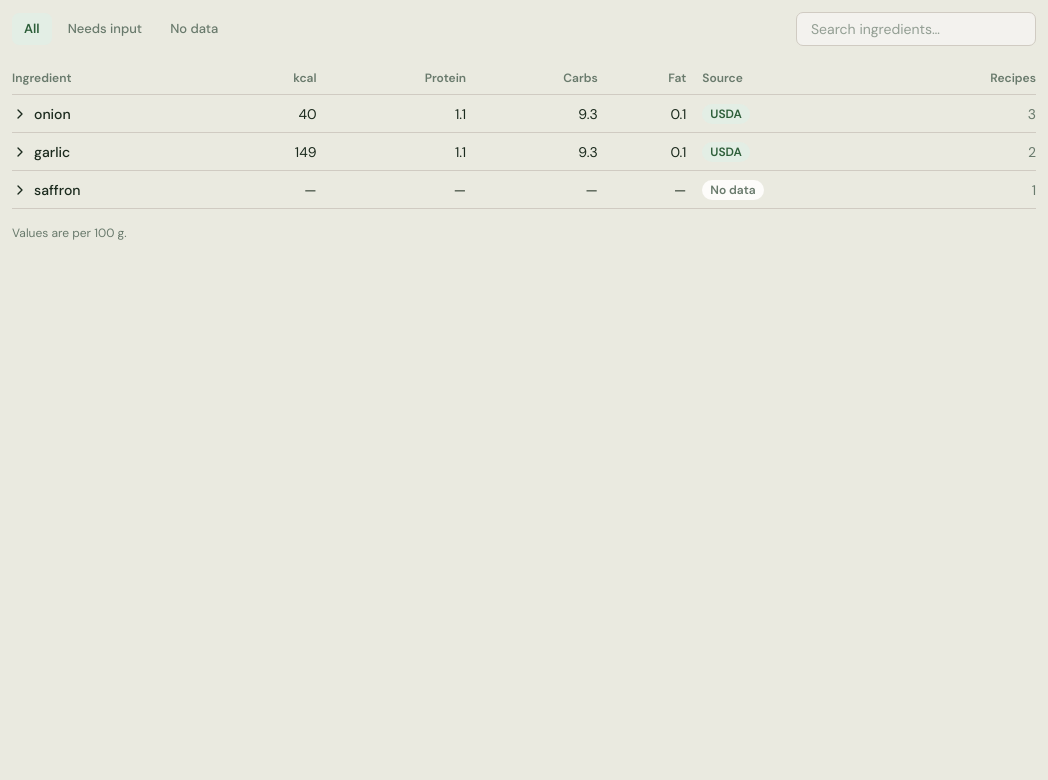
IngredientNutritionTable › fills a missing unit weight
Click the button "garlic" at (41,152), box [12,142,70,162]
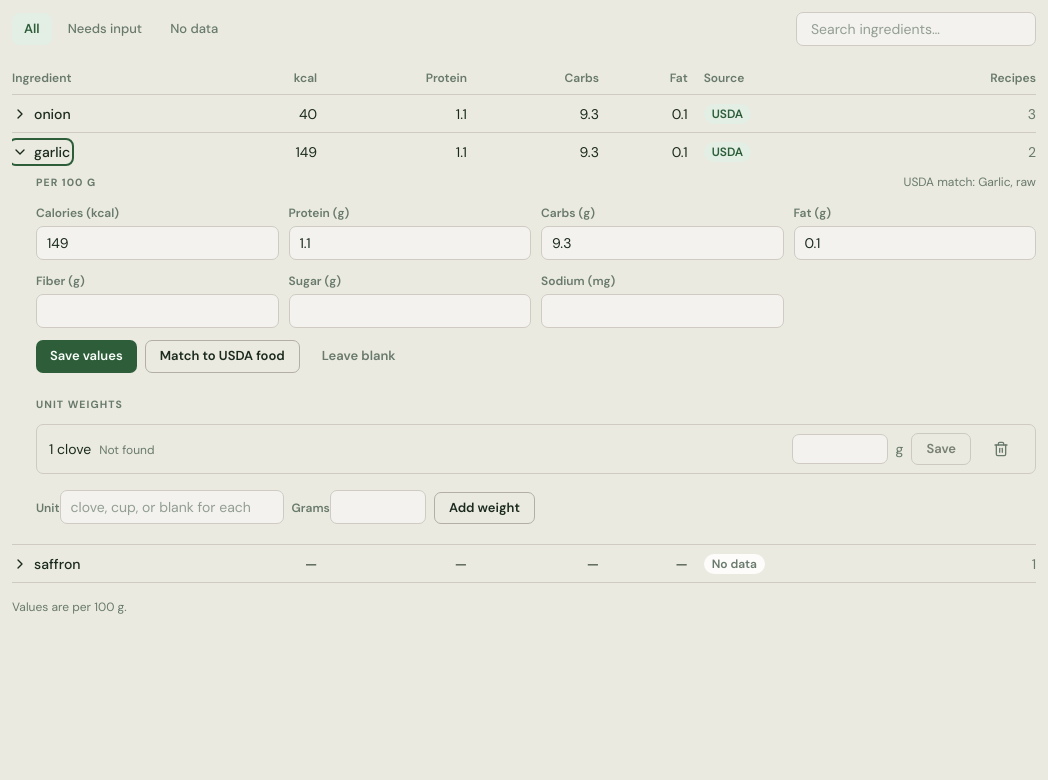
Expected: the text "Not found" is shown, [99,442,154,458]
Type "3" into the number field named "Grams in 1 clove" at (840,449), box [792,434,888,464]
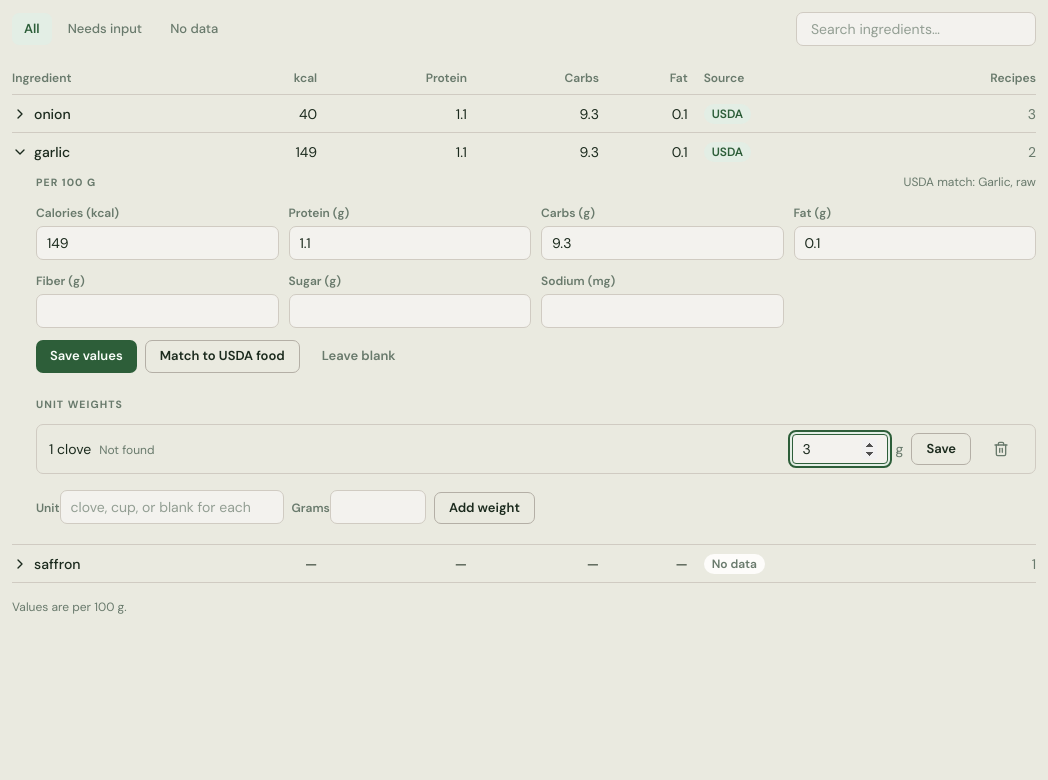
Click the button "Save" at (941,449), box [911,433,971,465]
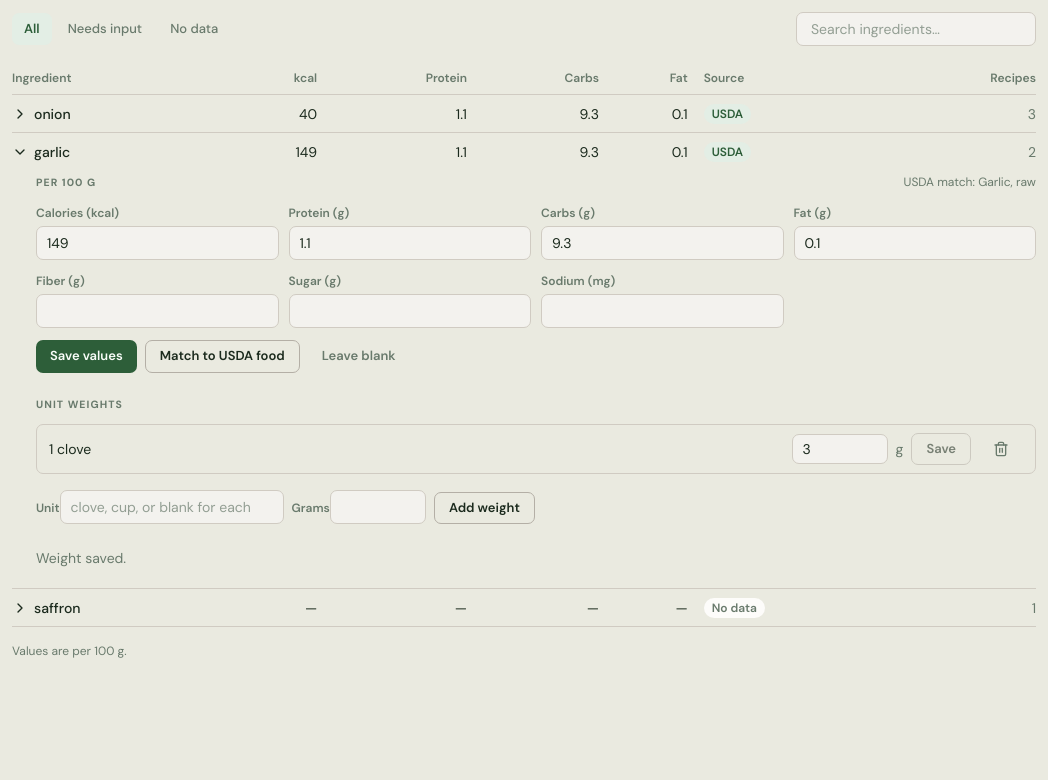
Expected: the text "Not found" is gone
